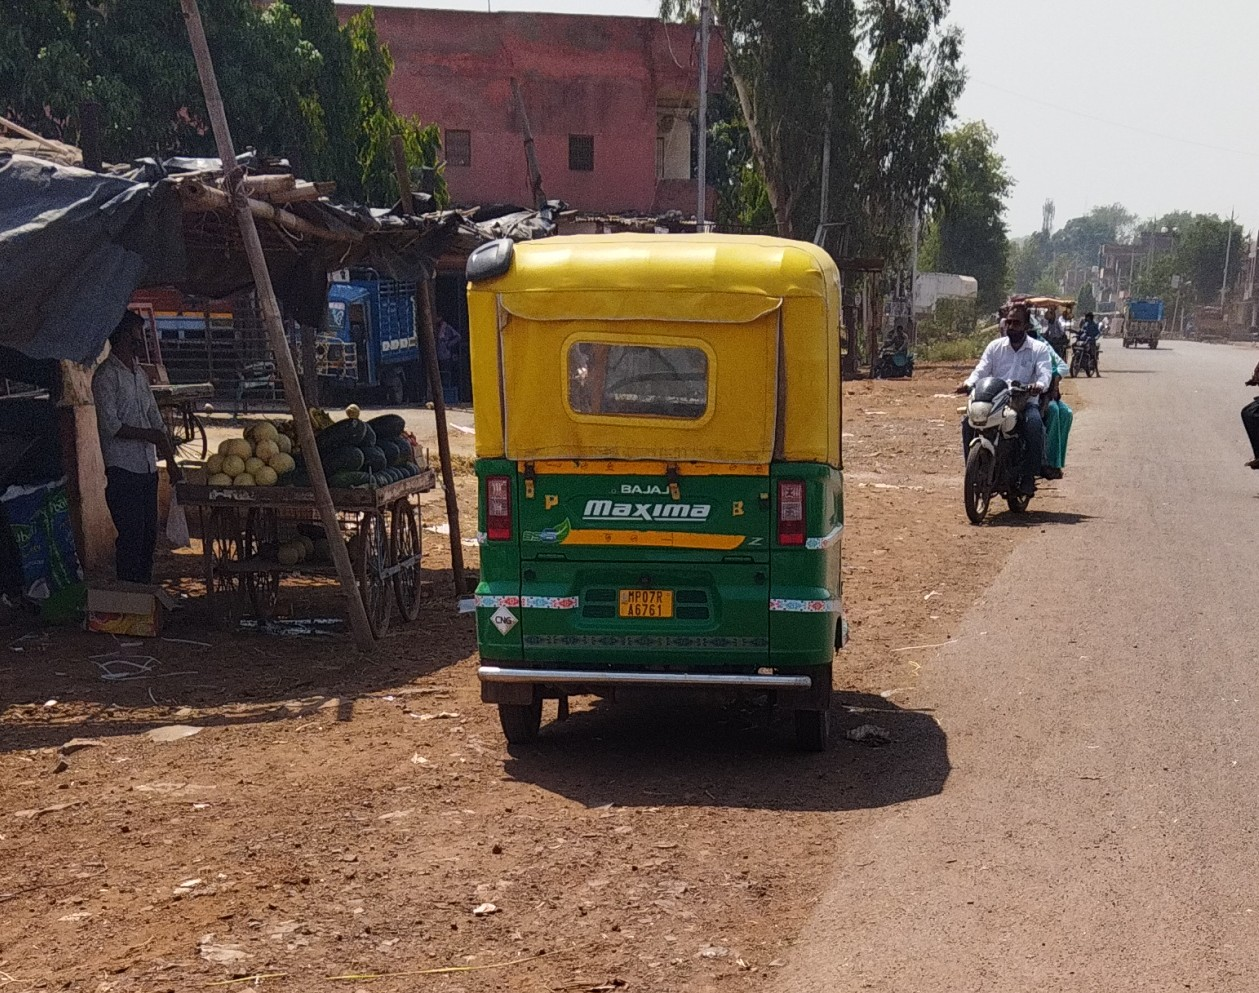auto: (429, 212, 890, 749)
plate: (598, 581, 693, 630)
